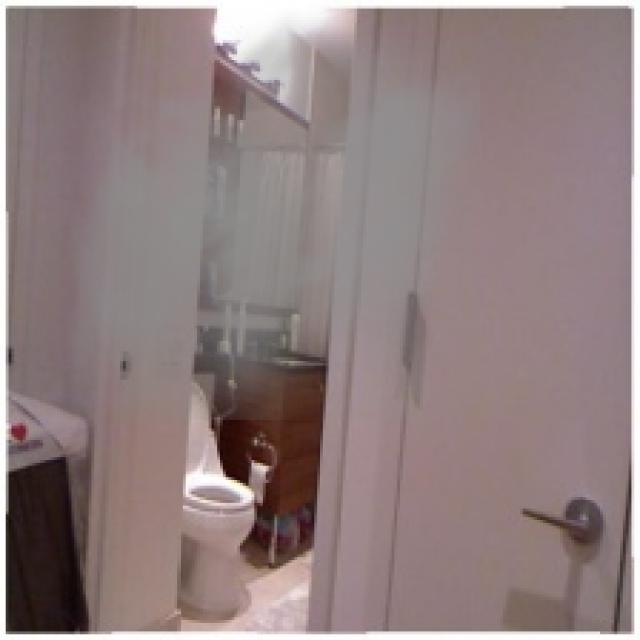smoke: (66, 0, 480, 420)
